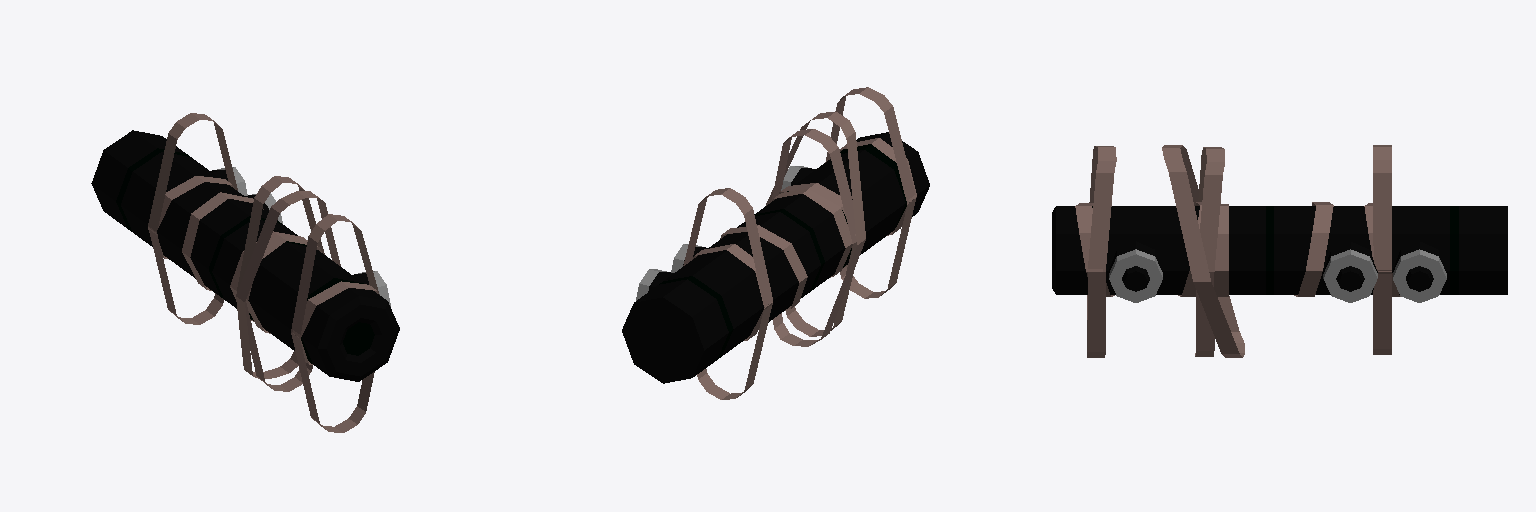
Rendered from V1_Power.obj.
3 renders of one model, left to right at view 1: azimuth 30°, elevation 25°; view 2: azimuth 150°, elevation 25°; view 3: azimuth 270°, elevation 25°, orthographic.
Visible parts, largest first — view 1: Cylinder.004; view 2: Cylinder.004; view 3: Cylinder.004.
Boxes of the visible parts, box(x1,y1,x2,y2) form: Cylinder.004: box(91, 113, 399, 432); Cylinder.004: box(622, 87, 929, 399); Cylinder.004: box(1052, 145, 1507, 357).
Size of the model in its own units: 0.1028 by 0.1878 by 0.3715.